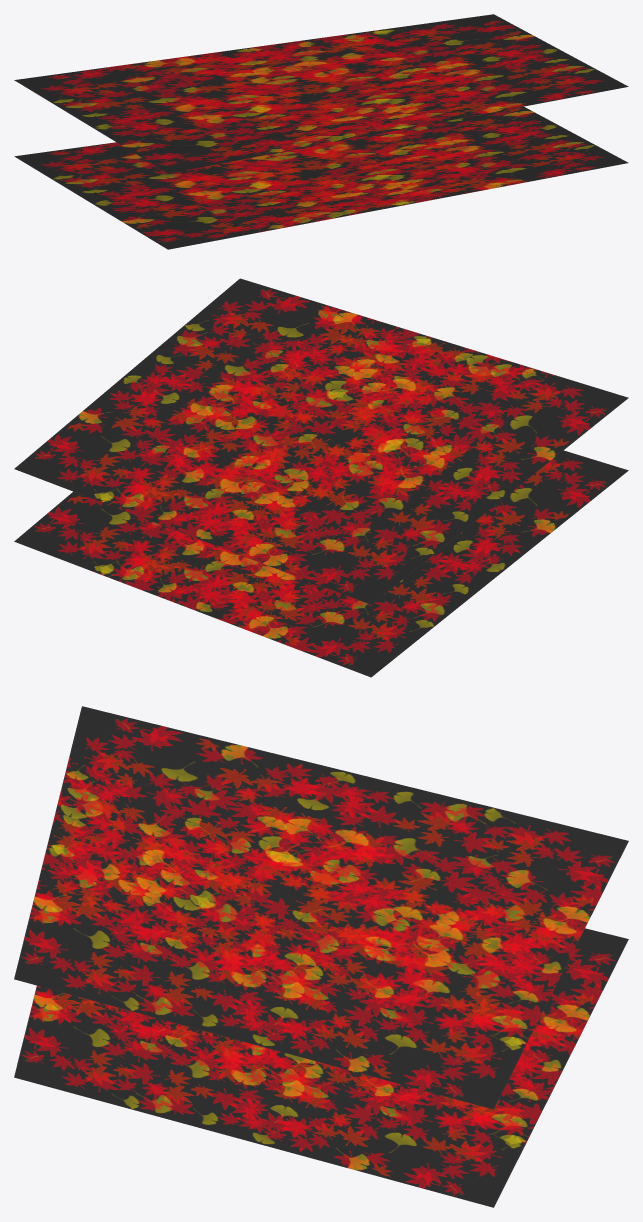
Rendered from CourseAki_CurveFloor_1_2.fbx.
3 views of the same model, one above another, from view 1: azimuth 30°, elevation 25°; view 2: azimuth 150°, elevation 25°; view 3: azimuth 270°, elevation 25° (orthographic). The views are drawn at different scales.
Visible parts, largest first — view 1: polySurface430; view 2: polySurface430; view 3: polySurface430.
Boxes of the visible parts, x1,y1,x2,y2 form: polySurface430: (14, 14, 628, 249); polySurface430: (14, 278, 628, 677); polySurface430: (14, 706, 628, 1207).
Size of the model in its own units: 6.67 by 2 by 5.68.
Materials: 1 (1 with a texture image).
